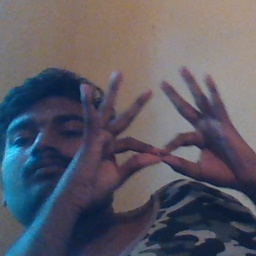B: (100, 101, 214, 190)
